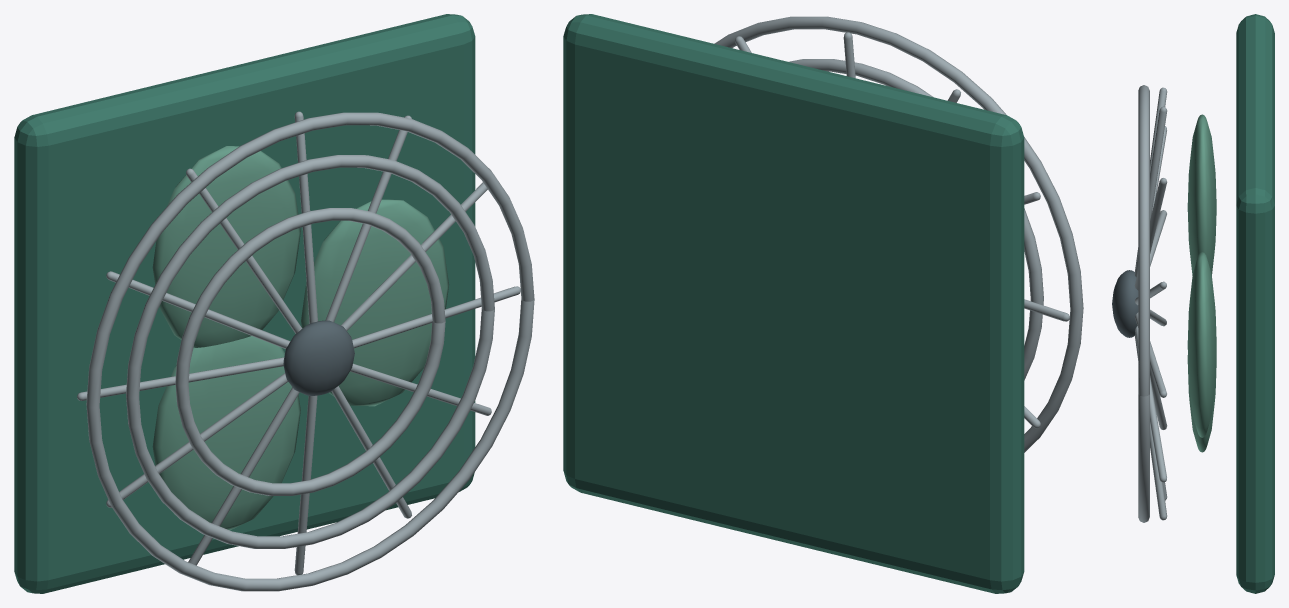
Rendered from vent_fan.glb.
The picture shows the model from 3 angles, left to right: view 1: azimuth 30°, elevation 25°; view 2: azimuth 150°, elevation 25°; view 3: azimuth 270°, elevation 25°; orthographic projection. The views are drawn at different scales.
Parts seen in each view (by area): view 1: Mount, Guard.002, Guard.001, Fan_blade.002, Fan_blade.001, Fan_blade, Guard, Hub, Guard_spoke.007, Guard_spoke.002, Guard_spoke.008, Guard_spoke.003 (+8 smaller); view 2: Mount, Guard.002, Guard.001; view 3: Mount, Guard.002, Fan_blade, Fan_blade.001, Hub, Guard_spoke.003, Guard_spoke.011, Guard_spoke.010, Guard_spoke.002, Fan_blade.002, Guard_spoke, Guard_spoke.008 (+2 smaller).
Part boxes in pixels (x1,y1,x2,y2): Mount: (14,14,475,593); Guard.002: (86,112,534,591); Guard.001: (126,155,494,548); Fan_blade.002: (152,336,300,530); Fan_blade.001: (152,146,300,347); Fan_blade: (301,199,449,406); Guard: (175,208,445,495); Hub: (283,320,354,395); Guard_spoke.007: (106,373,288,507); Guard_spoke.002: (325,115,411,322); Guard_spoke.008: (188,387,299,565); Guard_spoke.003: (294,111,317,323); Mount: (563,14,1024,593); Guard.002: (714,16,1083,452); Guard.001: (788,59,1043,380); Mount: (1236,14,1274,593); Guard.002: (1138,85,1149,522); Fan_blade: (1187,252,1216,437); Fan_blade.001: (1187,114,1216,275); Hub: (1112,270,1138,337); Guard_spoke.003: (1135,106,1167,277); Guard_spoke.011: (1135,326,1166,482); Guard_spoke.010: (1134,335,1167,520); Guard_spoke.002: (1134,178,1167,290); Fan_blade.002: (1187,353,1216,452); Guard_spoke: (1135,312,1166,397); Guard_spoke.008: (1150,365,1167,429).
Bounding box in the file's own units: 0.46 × 0.46 × 0.168.
